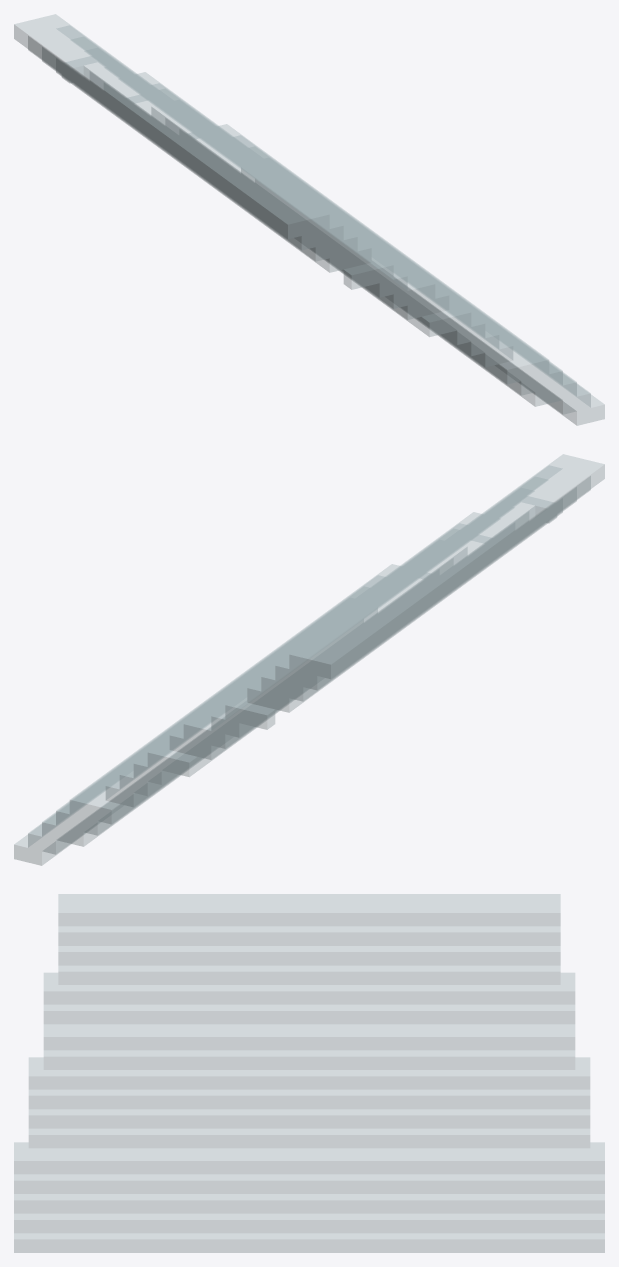
File: city_car_windscreen.glb
The picture shows the model from 3 angles, top to bottom: view 1: azimuth 30°, elevation 25°; view 2: azimuth 150°, elevation 25°; view 3: azimuth 270°, elevation 25°; orthographic projection. The views are drawn at different scales.
Visible parts, largest first — view 1: body:compound; view 2: body:compound; view 3: body:compound.
Part boxes in pixels (x1,y1,x2,y2): body:compound: (14, 14, 604, 425); body:compound: (14, 454, 604, 865); body:compound: (14, 894, 604, 1252).
Size of the model in its own units: 0.6562 by 0.5312 by 1.25.
